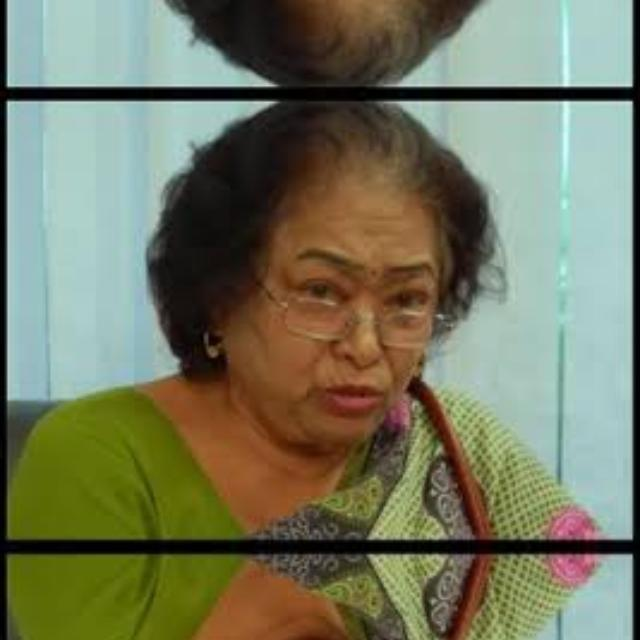person: (32, 100, 594, 542), (32, 549, 594, 640), (32, 0, 594, 86)
